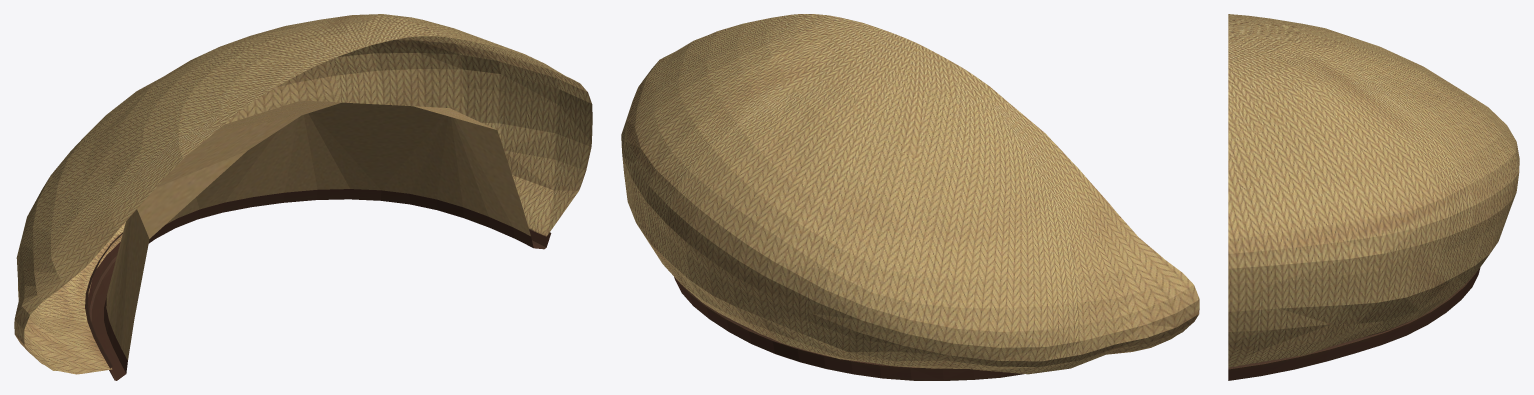
The model's file is beret.FBX.
3 views of the same model, side by side, from view 1: azimuth 30°, elevation 25°; view 2: azimuth 150°, elevation 25°; view 3: azimuth 270°, elevation 25° (orthographic). The views are drawn at different scales.
Parts seen in each view (by area): view 1: node_id30; view 2: node_id30; view 3: node_id30.
Part boxes in pixels (x1,y1,x2,y2): node_id30: (14,14,592,380); node_id30: (621,14,1199,380); node_id30: (1228,14,1519,380).
Bounding box in the file's own units: 0.5053 × 0.2324 × 0.2206.
Materials: 1 (1 with a texture image).
